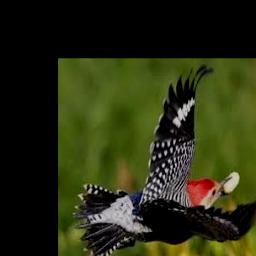Woodpecker: (72, 64, 256, 256)
